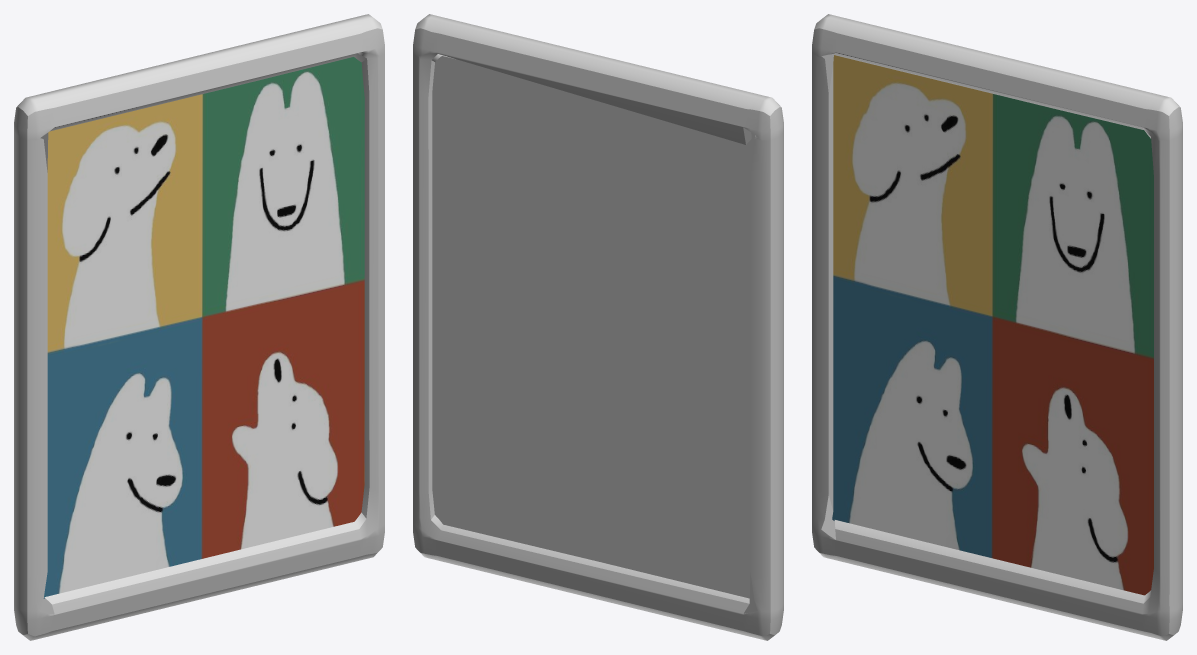
Rendered from PhotoV1.fbx.
3 renders of one model, left to right at view 1: azimuth 30°, elevation 25°; view 2: azimuth 150°, elevation 25°; view 3: azimuth 330°, elevation 25°, orthographic.
Parts seen in each view (by area): view 1: pCube128; view 2: pCube128; view 3: pCube128.
Part boxes in pixels (x1=…): pCube128: x1=14, y1=14, x2=384, y2=640; pCube128: x1=413, y1=14, x2=783, y2=640; pCube128: x1=812, y1=14, x2=1182, y2=640.
Bounding box in the file's own units: 91.7 × 130 × 7.32.
